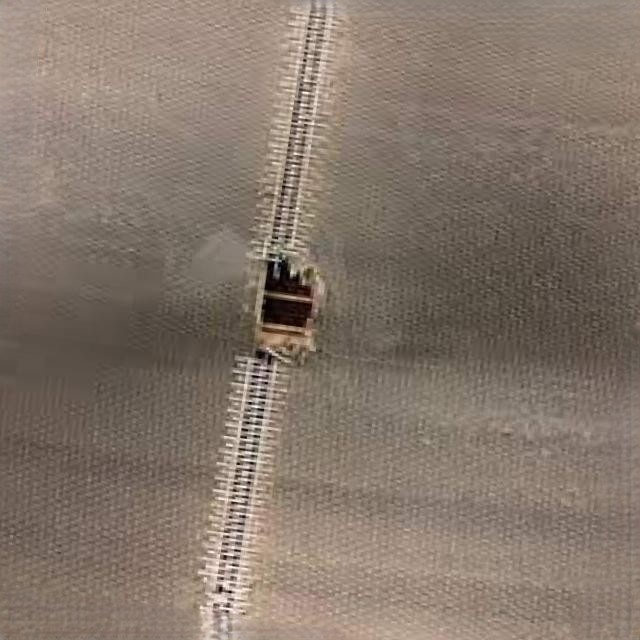Hole: (244, 242, 330, 368)
